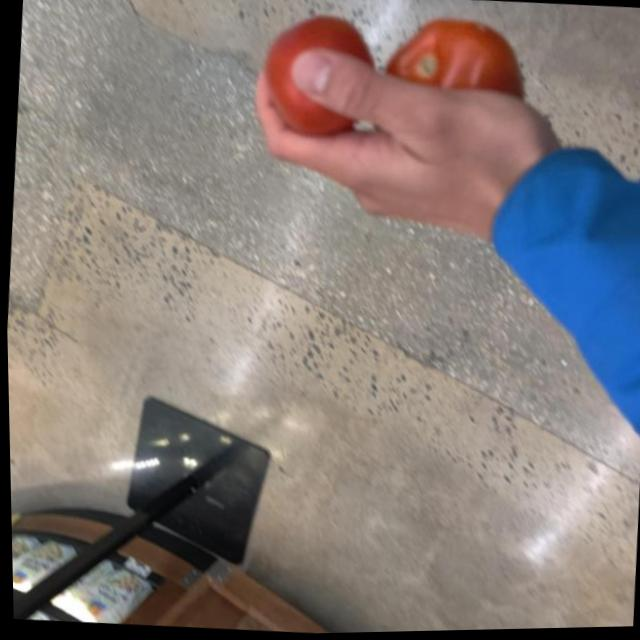Tomatoes: (376, 9, 531, 158), (251, 1, 387, 169)
